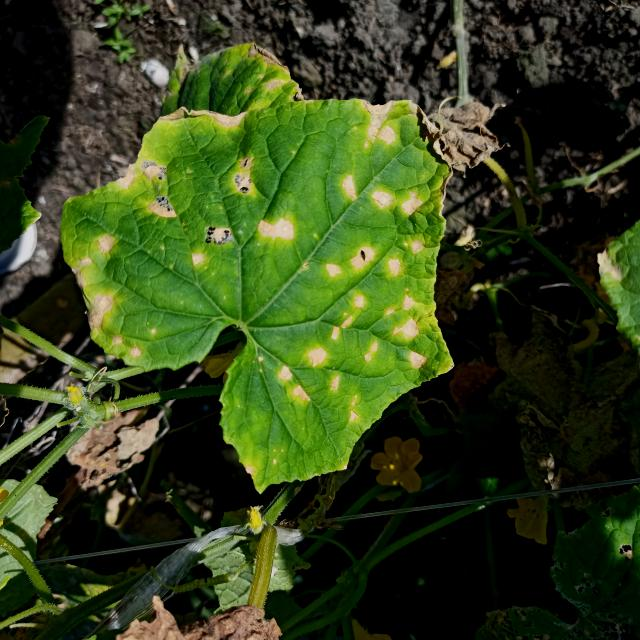disease_cucumber: (80, 100, 448, 424)
